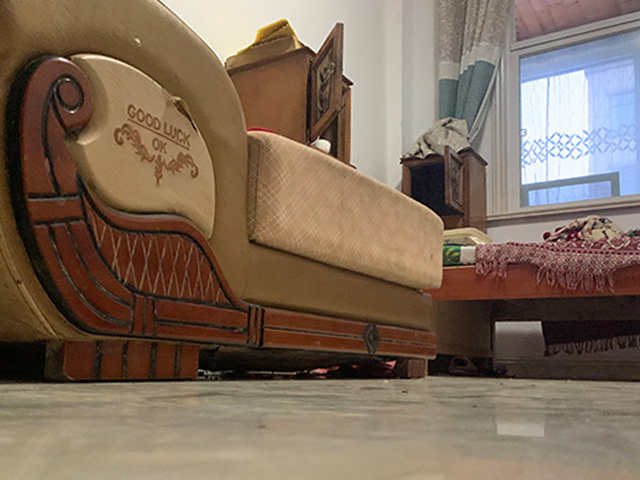bed: (438, 216, 640, 369)
curtain: (432, 1, 508, 170)
slippers: (447, 354, 480, 377)
sofa: (1, 1, 443, 383)
